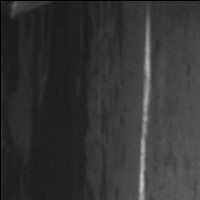inclusion: (15, 4, 118, 200)
scratches: (134, 6, 156, 200)
